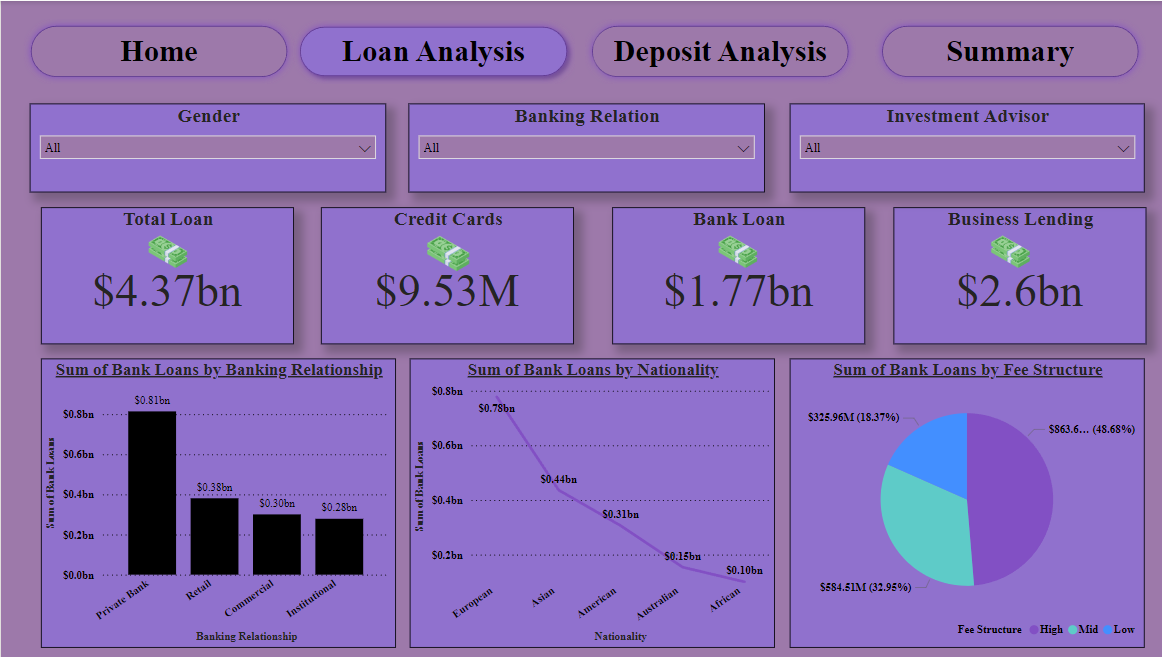

Layout of this report page (visuals, bound fields, positions):
{"tool":"powerbi","page":{"name":"Loan Analysis","canvas":[1280,720],"ordinal":1},"visuals":[{"type":"shape","box":[959.5,19.8,297.6,72.3],"z":0},{"type":"shape","box":[640.6,19.8,297.6,72.3],"z":1000},{"type":"shape","box":[299.1,19.8,351.5,72.3],"z":2000},{"type":"slicer","title":"Banking Relation","fields":{"Values":["Clients - Banking.Banking Relationship"]},"box":[447.9,112,391.2,97.8],"z":3000},{"type":"slicer","title":"Gender","fields":{"Values":["Clients - Banking.Gender.Gender"]},"box":[31.2,112,391.2,97.8],"z":4000},{"type":"card","title":"Total Loan","fields":{"Values":["Banking Relationship.Total Loan"]},"box":[43.9,226.8,277.8,150.2],"z":5000},{"type":"card","title":"Credit Cards","fields":{"Values":["Sum(Clients - Banking.Credit Card Balance)"]},"box":[351.5,226.8,277.8,150.2],"z":6000},{"type":"card","title":"Bank Loan","fields":{"Values":["Sum(Clients - Banking.Bank Loans)"]},"box":[670.4,226.8,277.8,150.2],"z":7000},{"type":"card","title":"Business Lending","fields":{"Values":["Sum(Clients - Banking.Business Lending)"]},"box":[979.4,226.8,277.8,150.2],"z":8000},{"type":"columnChart","fields":{"Y":["Sum(Clients - Banking.Bank Loans)"],"Category":["Clients - Banking.Banking Relationship"]},"box":[43.9,392.6,389.8,317.5],"z":9000},{"type":"pieChart","fields":{"Y":["Sum(Clients - Banking.Bank Loans)"],"Category":["Clients - Banking.Fee Structure"]},"box":[866,392.6,389.8,317.5],"z":10000},{"type":"lineChart","fields":{"Category":["Clients - Banking.Bank Loans","Clients - Banking.Nationality"],"Y":["Sum(Clients - Banking.Bank Loans)"]},"box":[449.3,392.6,401.1,317.5],"z":11000},{"type":"image","box":[744.1,248,130.4,53.9],"z":12000},{"type":"image","box":[117.6,248,130.4,53.9],"z":13000},{"type":"image","box":[425.2,248,130.4,58.1],"z":14000},{"type":"image","box":[1043.1,248,130.4,53.9],"z":15000},{"type":"slicer","title":"Investment Advisor","fields":{"Values":["Clients - Banking.Investment Advisor"]},"box":[866,112,389.8,97.8],"z":16000},{"type":"shape","box":[24.1,19.8,297.6,72.3],"z":17000}]}

Visuals, with their boxes in screenshot pixels (x1, y1, x2, y2), scaled from the page's 1280x720 canvas onto the 1162x657 screenshot:
shape: crop(871, 18, 1141, 84)
shape: crop(582, 18, 852, 84)
shape: crop(272, 18, 591, 84)
"Banking Relation" slicer: crop(407, 102, 762, 191)
"Gender" slicer: crop(28, 102, 383, 191)
"Total Loan" card: crop(40, 207, 292, 344)
"Credit Cards" card: crop(319, 207, 571, 344)
"Bank Loan" card: crop(609, 207, 861, 344)
"Business Lending" card: crop(889, 207, 1141, 344)
columnChart - Sum(Clients - Banking.Bank Loans) x Clients - Banking.Banking Relationship: crop(40, 358, 394, 648)
pieChart - Sum(Clients - Banking.Bank Loans) x Clients - Banking.Fee Structure: crop(786, 358, 1140, 648)
lineChart - Clients - Banking.Bank Loans x Clients - Banking.Nationality: crop(408, 358, 772, 648)
image: crop(676, 226, 794, 275)
image: crop(107, 226, 225, 275)
image: crop(386, 226, 504, 279)
image: crop(947, 226, 1065, 275)
"Investment Advisor" slicer: crop(786, 102, 1140, 191)
shape: crop(22, 18, 292, 84)
